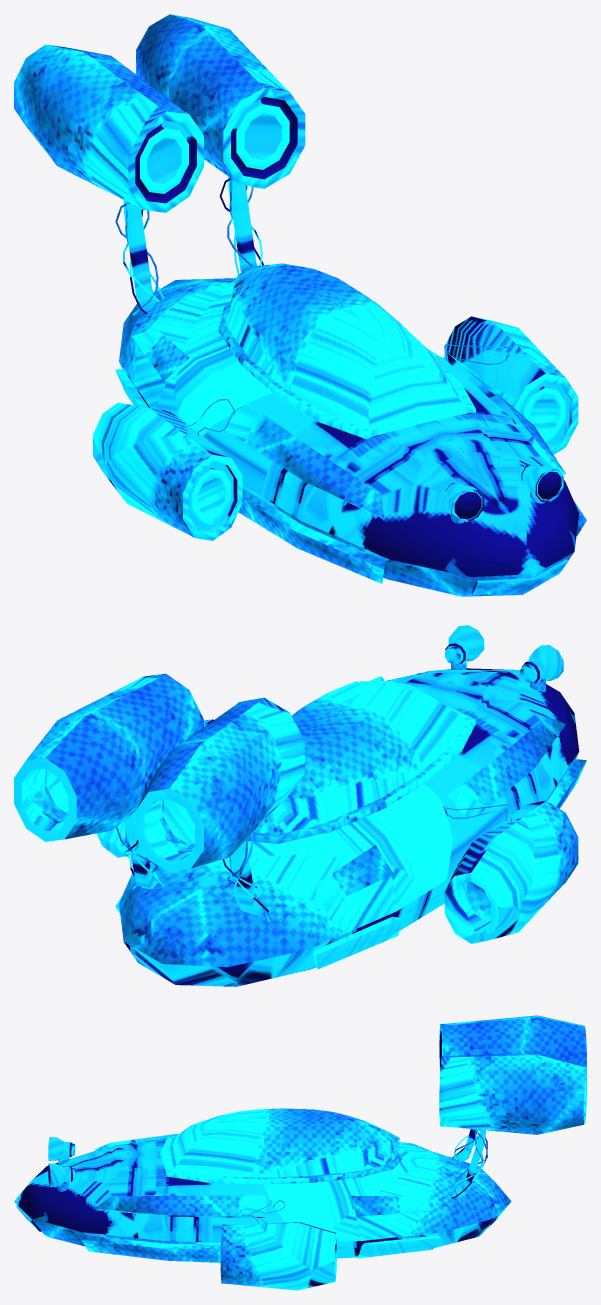
File: Vaisseau.fbx
3 views of the same model, one above another, from view 1: azimuth 30°, elevation 25°; view 2: azimuth 150°, elevation 25°; view 3: azimuth 270°, elevation 25° (orthographic). The views are drawn at different scales.
Parts seen in each view (by area): view 1: vaisseau; view 2: vaisseau; view 3: vaisseau.
Boxes of the visible parts, box(x1,y1,x2,y2) form: vaisseau: box(14, 14, 586, 596); vaisseau: box(14, 625, 586, 986); vaisseau: box(14, 1015, 586, 1290).
Bounding box in the file's own units: 14.76 × 10 × 26.21.
